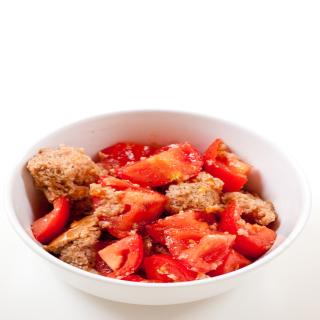tomato: (93, 188, 168, 238), (160, 227, 237, 271), (116, 148, 190, 188), (196, 145, 257, 189), (147, 207, 213, 246), (95, 233, 144, 280), (30, 196, 70, 242), (142, 253, 205, 282), (215, 199, 249, 232), (222, 250, 250, 271)
